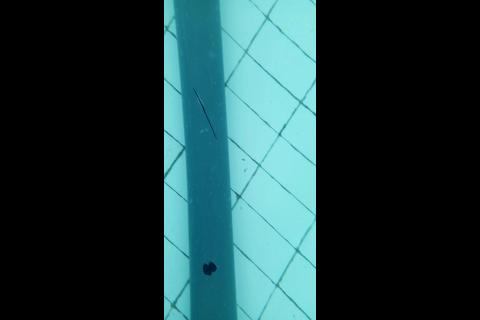kebocoran: (199, 259, 219, 277)
keretakan: (192, 86, 219, 140)
